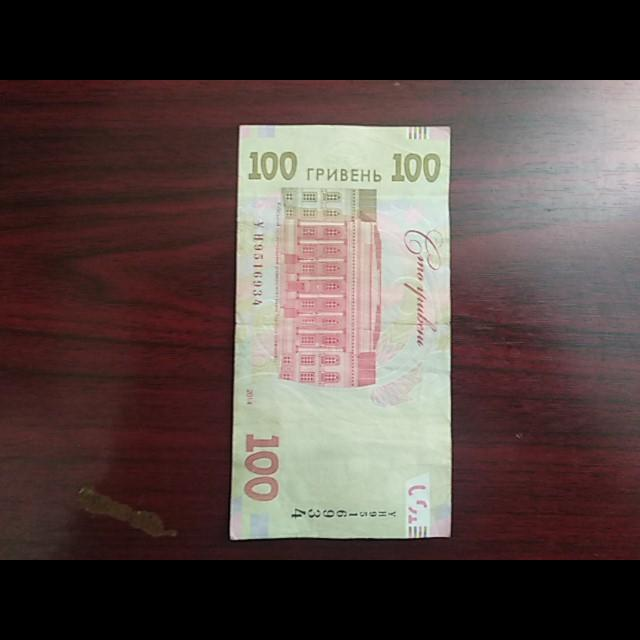100uah: (231, 126, 452, 540)
